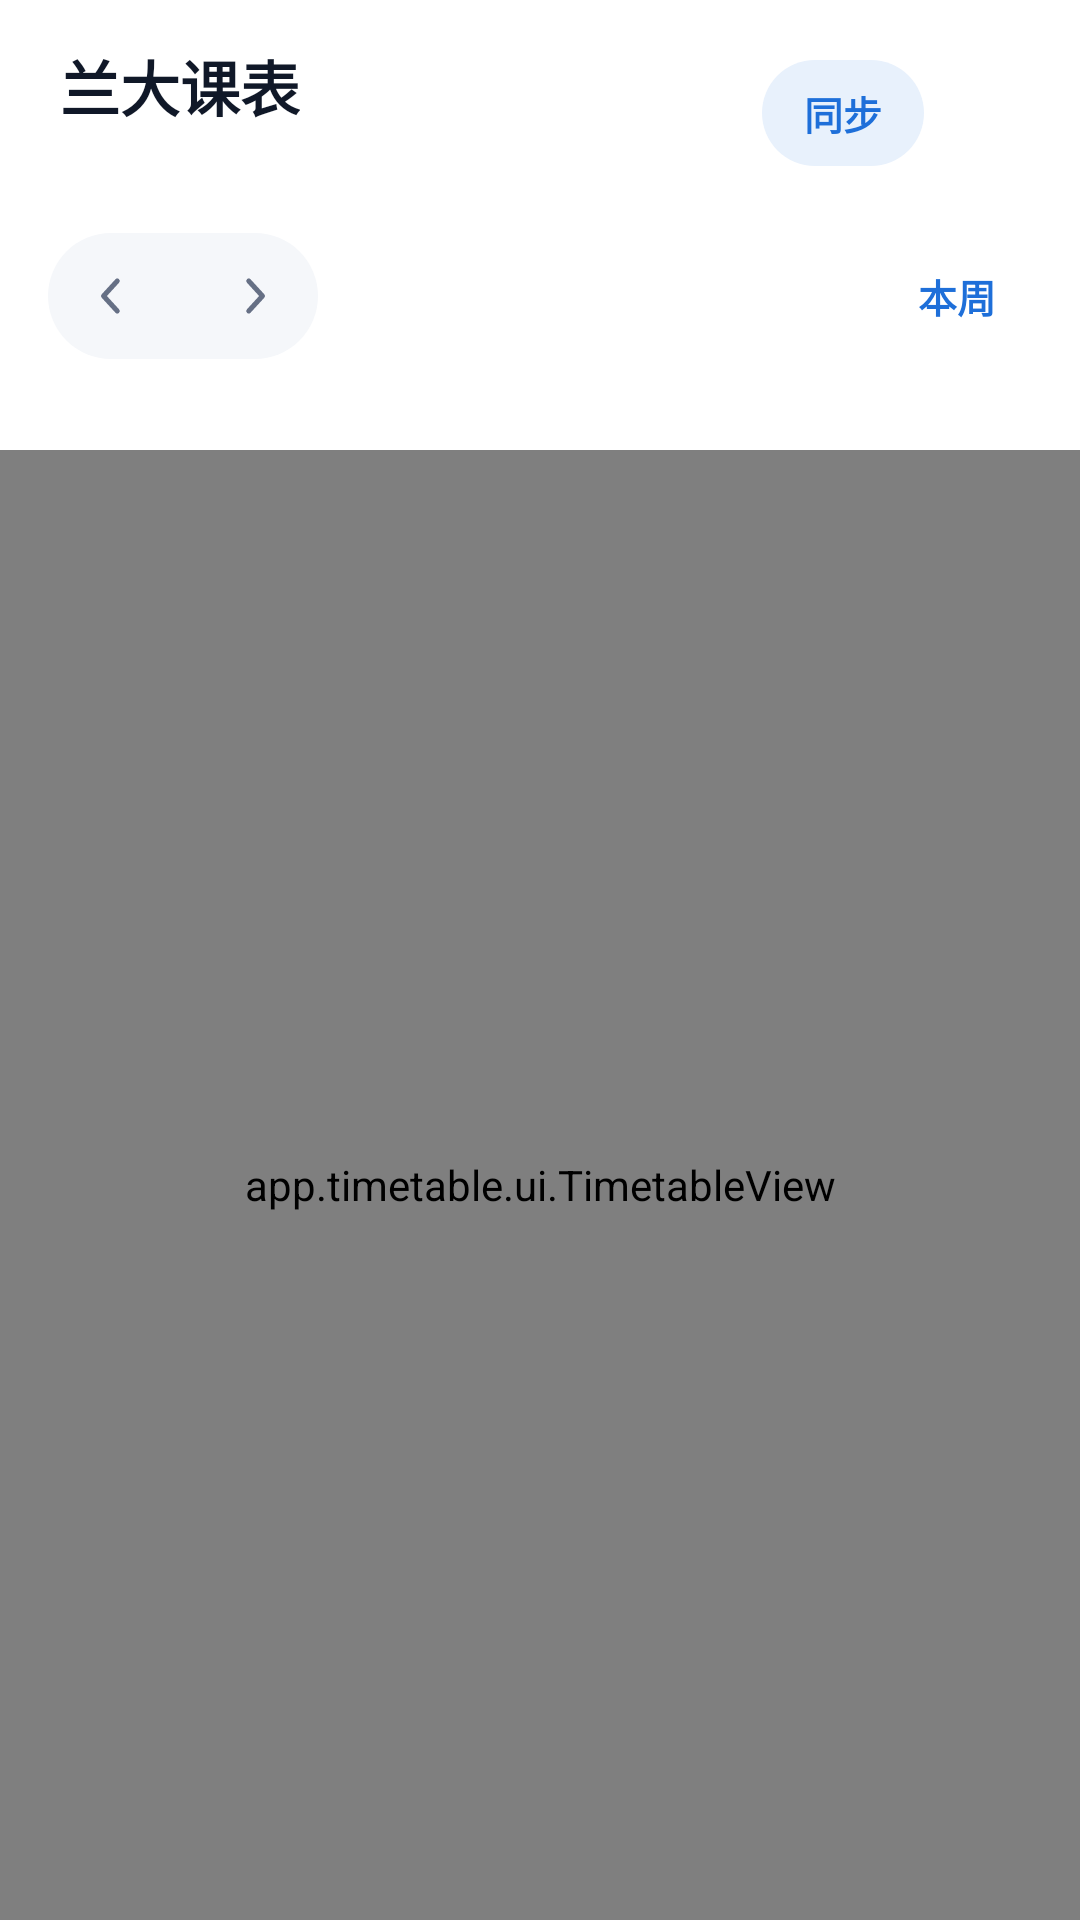

Point at icon controls on the screen. Image size 1080×1920, points as point (x, y).
上一周: point (110, 296)
下一周: point (255, 296)
